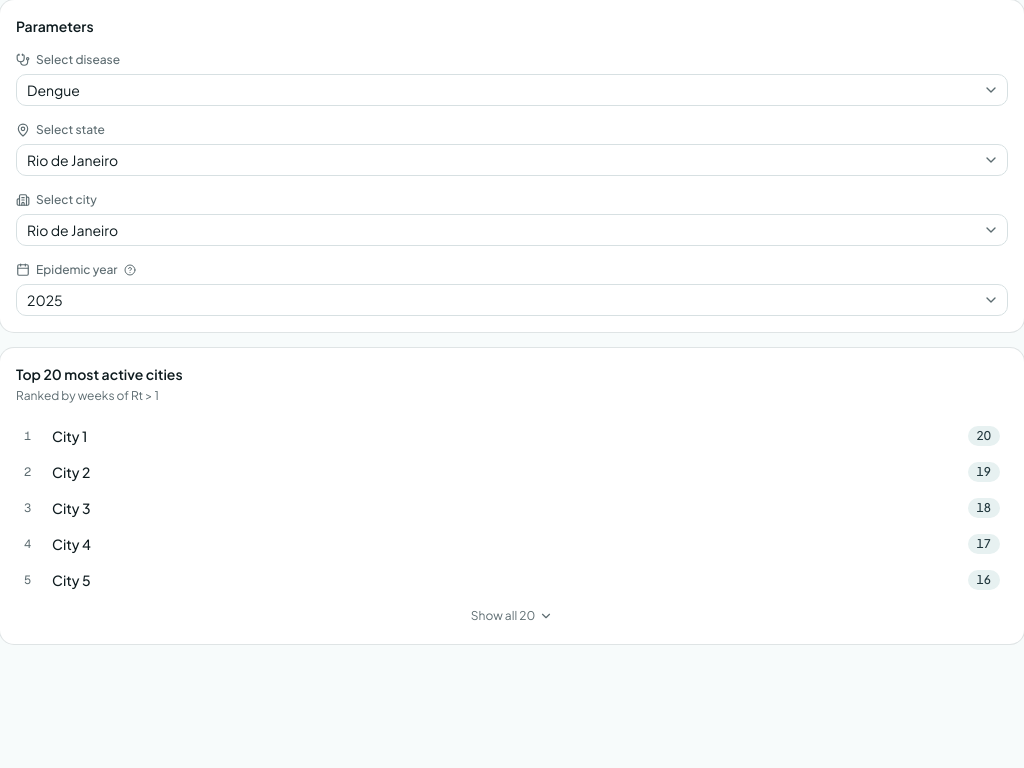
Test case: DashboardSidebar › collapses back to 5 cities
Click the button "Show all 20" at (512,616), box [16,604,1008,628]
(page scrolled)
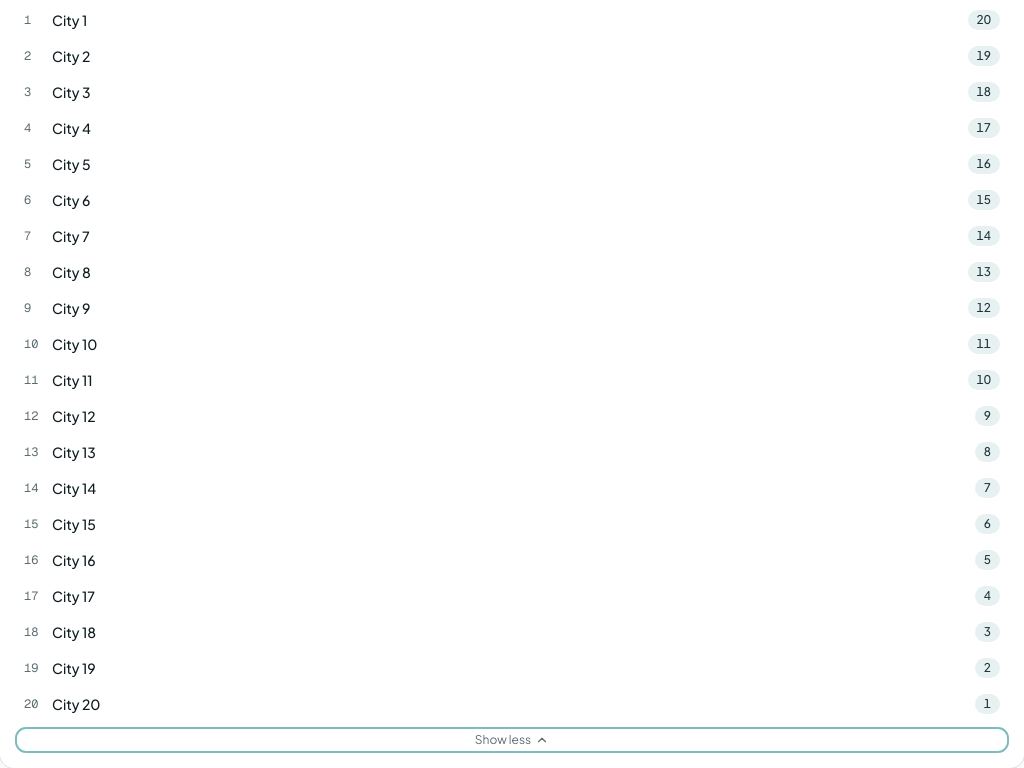
Click the button "Show less" at (512,740), box [16,728,1008,752]
(page scrolled)
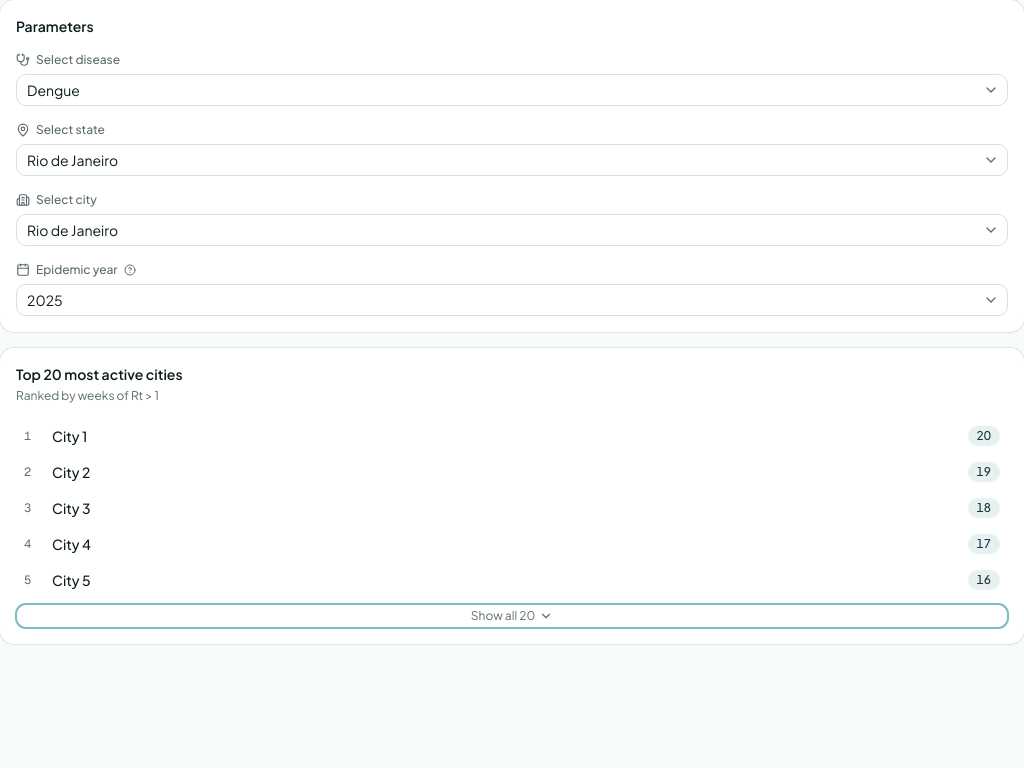
expect the button "City 6" is gone: met
